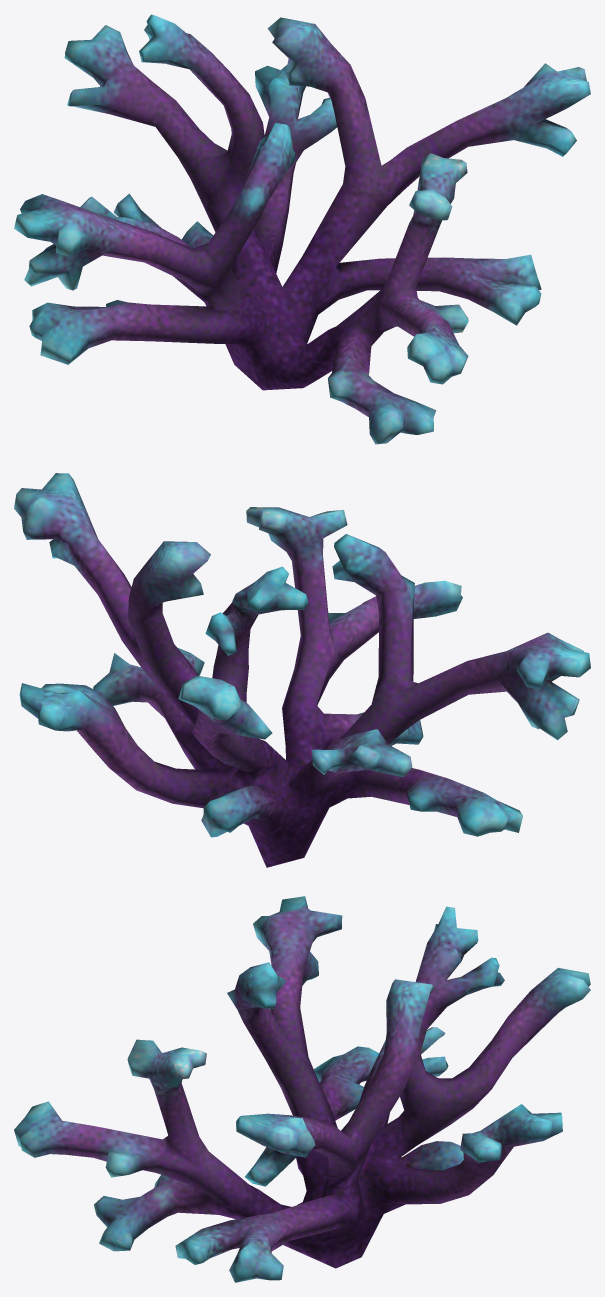
File: Coral V3.fbx
The picture shows the model from 3 angles, top to bottom: view 1: azimuth 30°, elevation 25°; view 2: azimuth 150°, elevation 25°; view 3: azimuth 270°, elevation 25°; orthographic projection. The views are drawn at different scales.
Parts seen in each view (by area): view 1: Coral V3; view 2: Coral V3; view 3: Coral V3.
Boxes of the visible parts, x1,y1,x2,y2 form: Coral V3: (14,14,590,444); Coral V3: (14,473,590,867); Coral V3: (14,896,590,1282).
Bounding box in the file's own units: 60.27 × 35.68 × 56.61.
